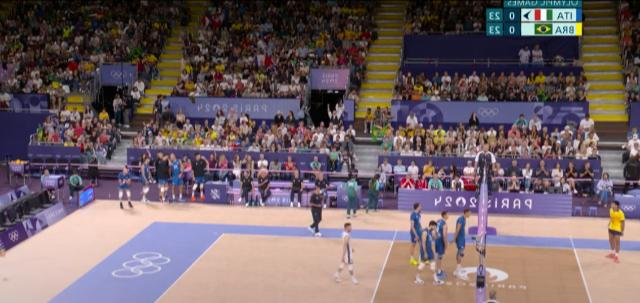Libero: (338, 221, 356, 282)
bola: (0, 247, 6, 258)
